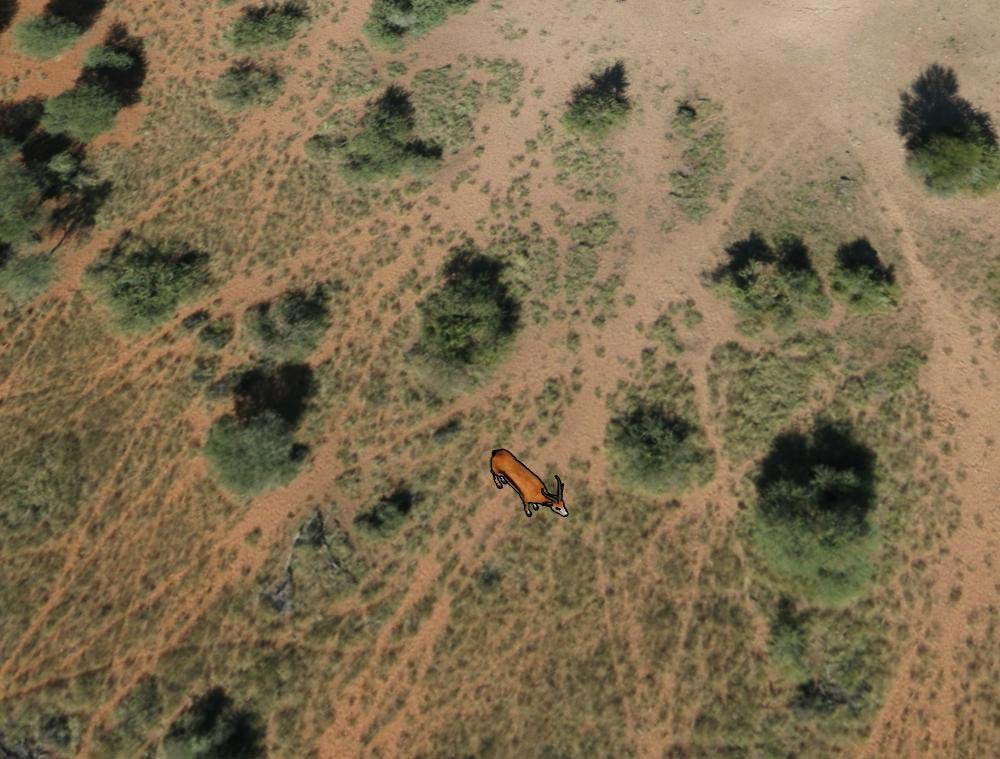springbok: (486, 443, 569, 525)
